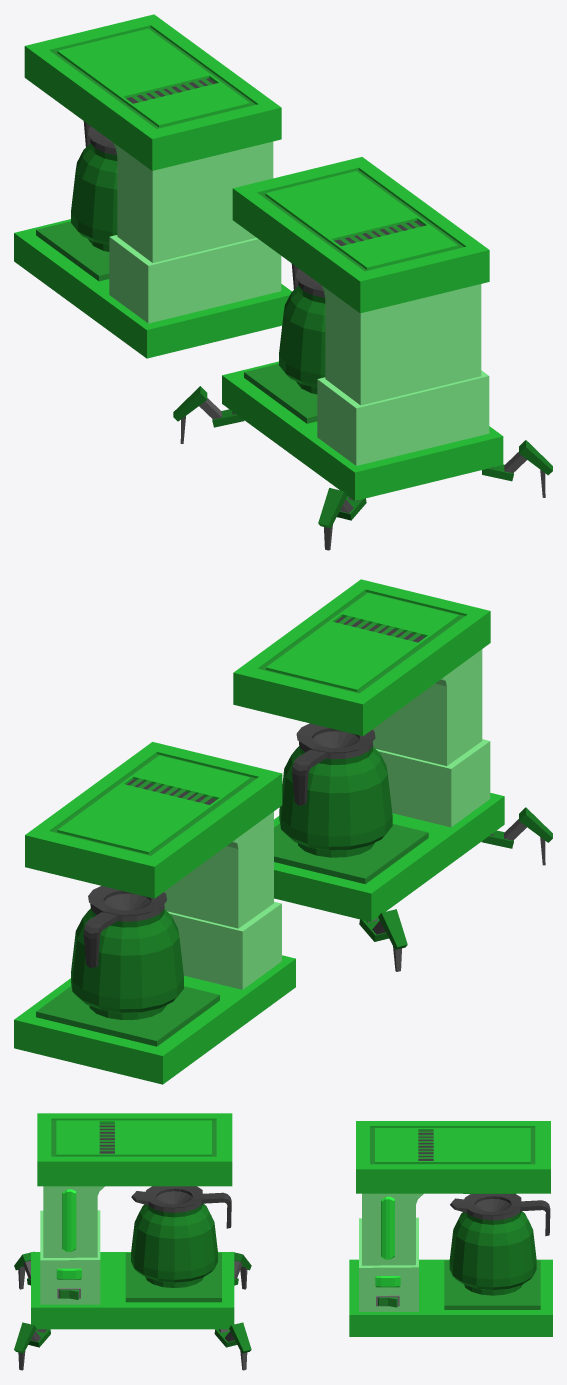
The model's file is cafeteira.fbx.
3 renders of one model, top to bottom at view 1: azimuth 30°, elevation 25°; view 2: azimuth 150°, elevation 25°; view 3: azimuth 270°, elevation 25°, orthographic. The views are drawn at different scales.
Visible parts, largest first — view 1: Cafeteira, Cafeteira.001; view 2: Cafeteira.001, Cafeteira; view 3: Cafeteira, Cafeteira.001.
Part boxes in pixels (x1,y1,x2,y2): Cafeteira: (173,157,552,550); Cafeteira.001: (14,14,291,358); Cafeteira.001: (14,742,295,1084); Cafeteira: (233,579,552,971); Cafeteira: (14,1113,251,1370); Cafeteira.001: (349,1121,552,1336).
Bounding box in the file's own units: 136 × 138 × 352.
